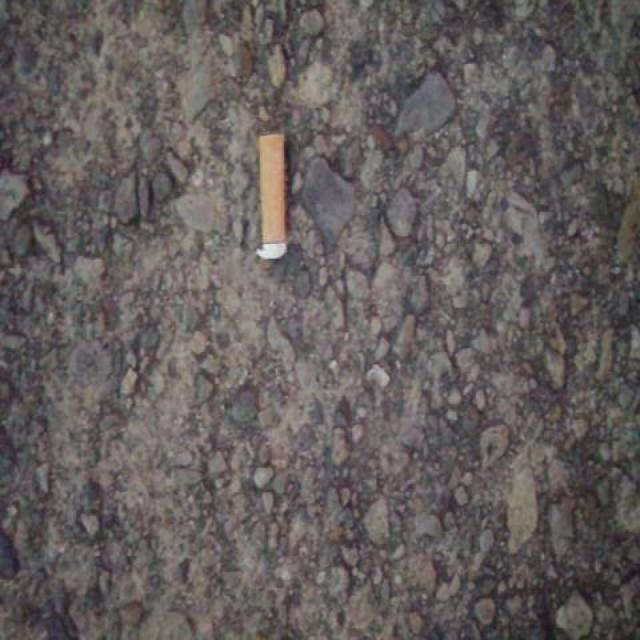non-organic waste: (253, 129, 290, 264)
